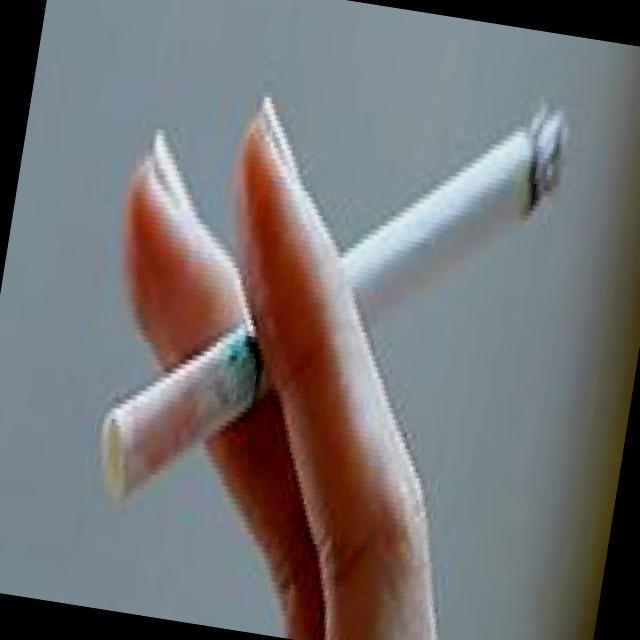cigarette: (358, 63, 574, 348)
